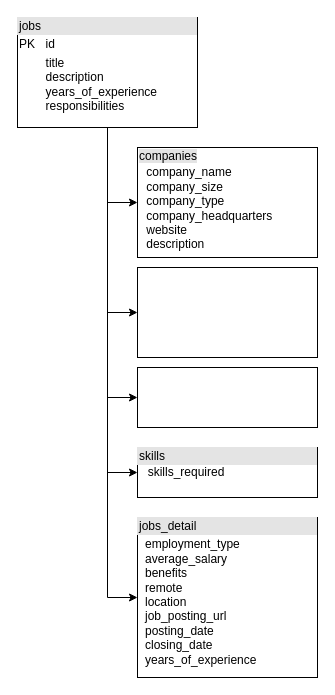
Image size: 335x695. Some labels were removed from this diagram. Here are the shapes that lost their labels. From the top down, the centre of each, then its label:
At (x=227, y=312): "industries name skills top_companies trends".
At (x=227, y=397): "education level field".
